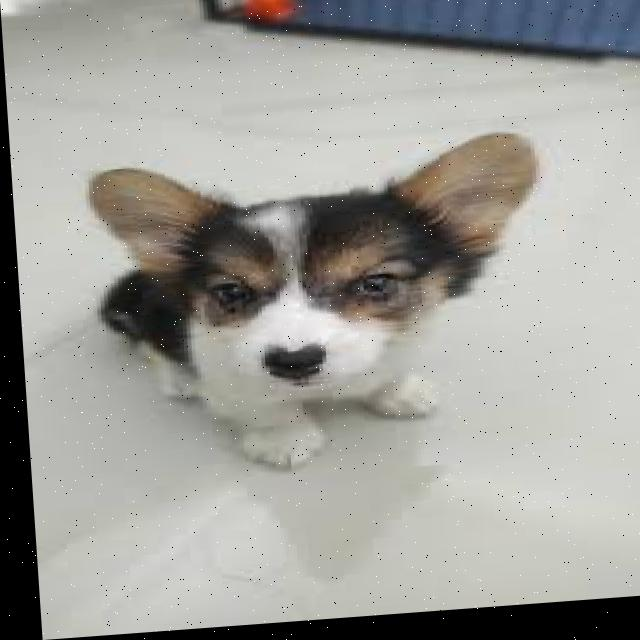CORGI: (36, 116, 564, 497)
